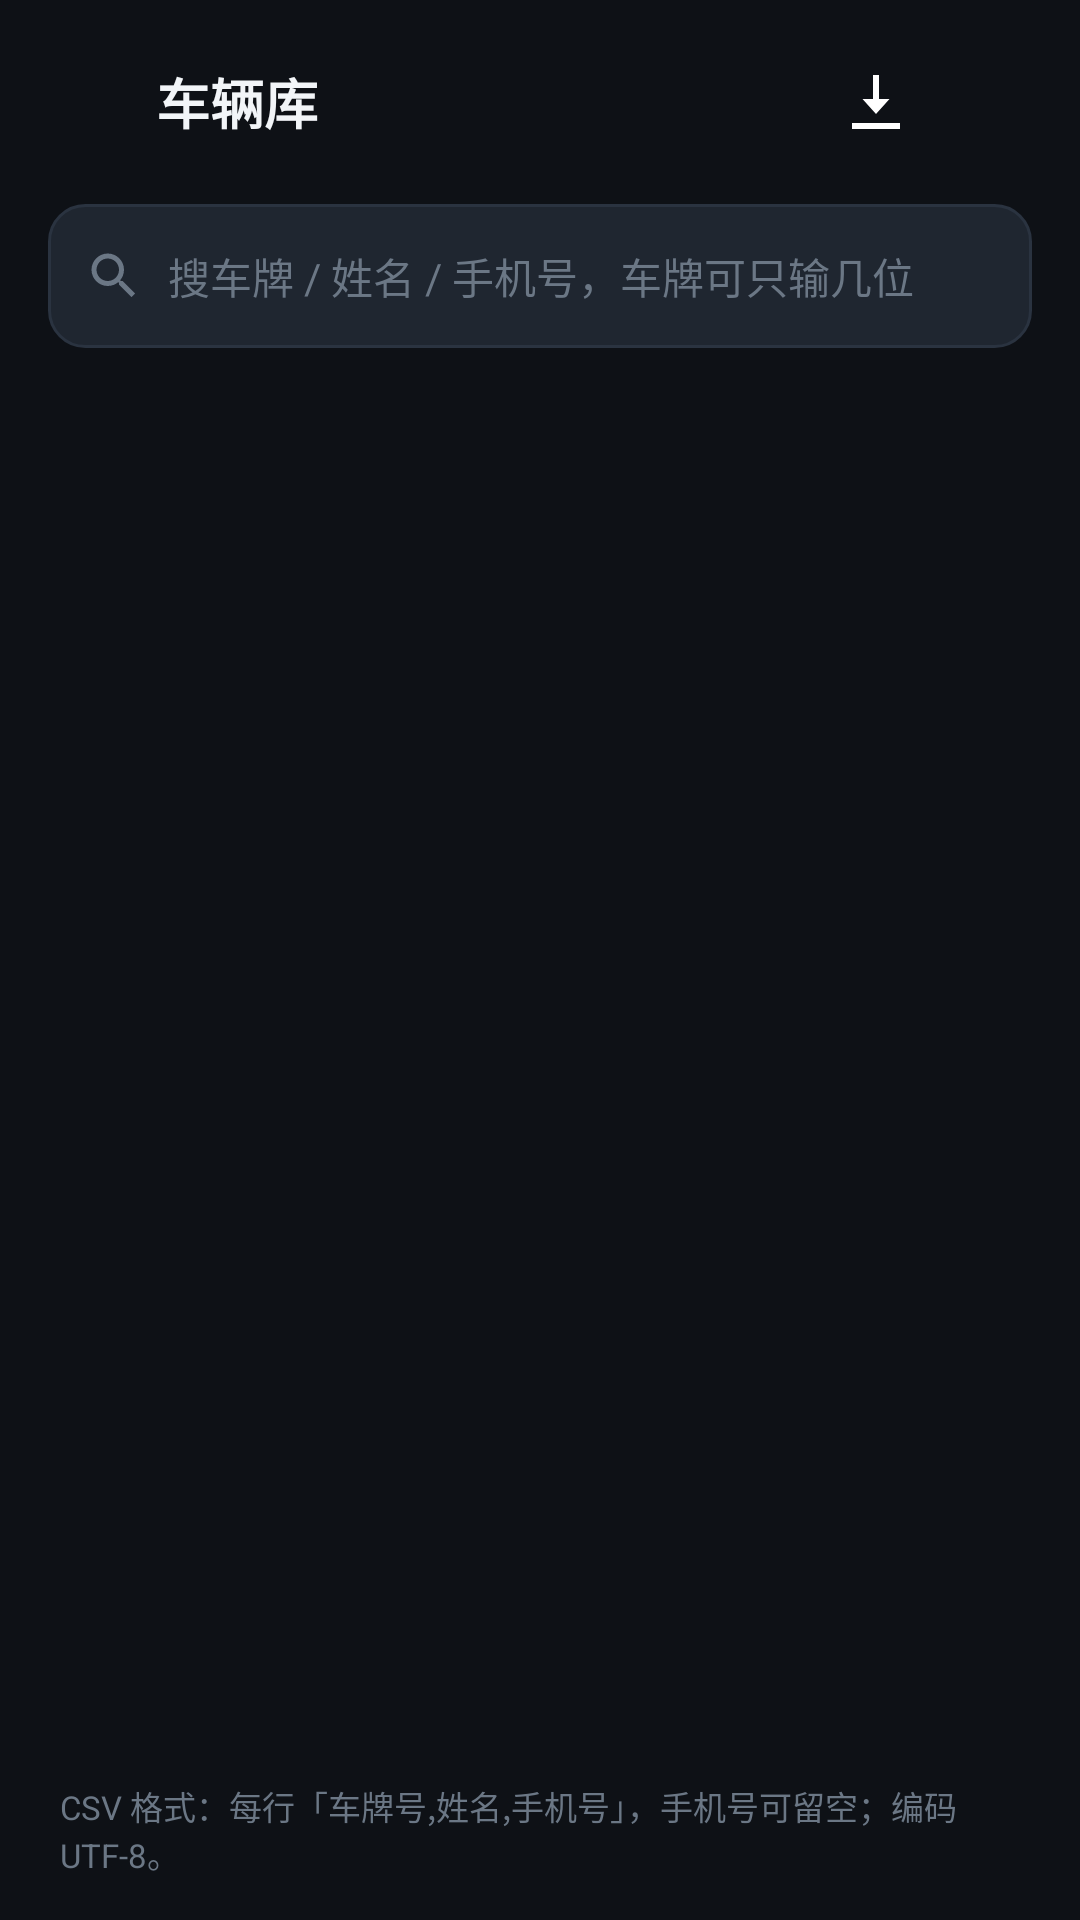

Named icons in this screenshot (1080x1920) and their bounding boxes, (x1, y1, x2, y2):
导入 CSV: (852, 75, 900, 129)
